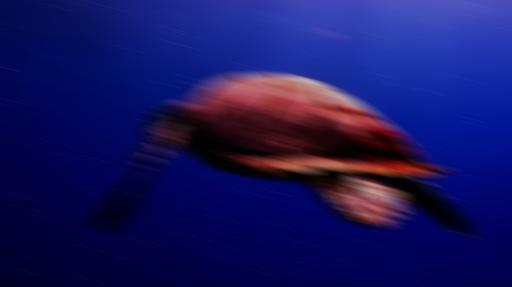Fish: (94, 73, 469, 234)
